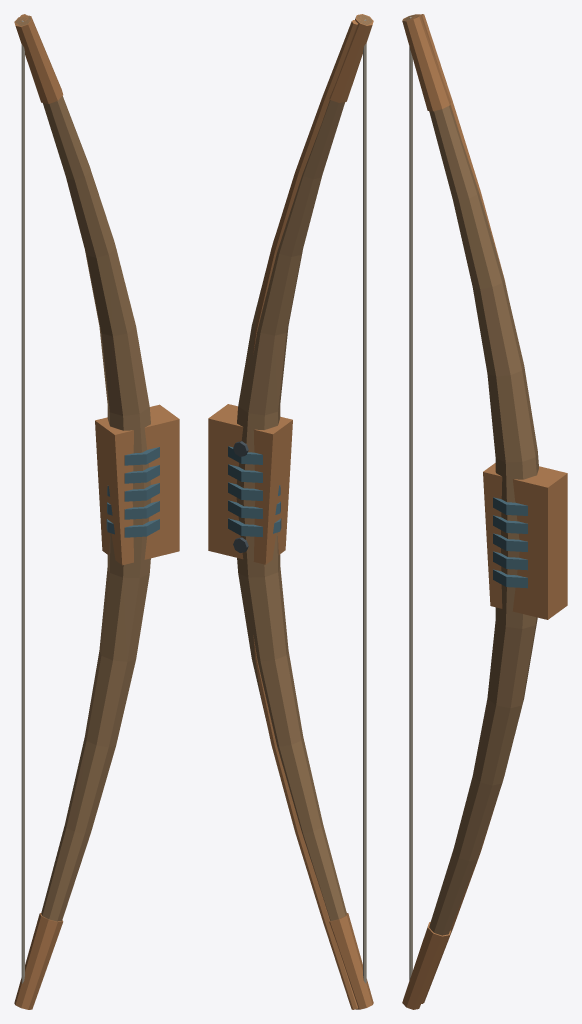
Rendered from AEW_Bow_BellHunt.fbx.
3 views of the same model, side by side, from view 1: azimuth 30°, elevation 25°; view 2: azimuth 150°, elevation 25°; view 3: azimuth 330°, elevation 25° (orthographic).
Visible parts, largest first — view 1: AEW_Bow_BellHunt; view 2: AEW_Bow_BellHunt; view 3: AEW_Bow_BellHunt.
Part boxes in pixels (bbox=[...]): AEW_Bow_BellHunt: bbox=[14, 14, 179, 1009]; AEW_Bow_BellHunt: bbox=[208, 14, 373, 1009]; AEW_Bow_BellHunt: bbox=[402, 14, 567, 1009].
Size of the model in its own units: 0.2688 by 1.65 by 0.09.
